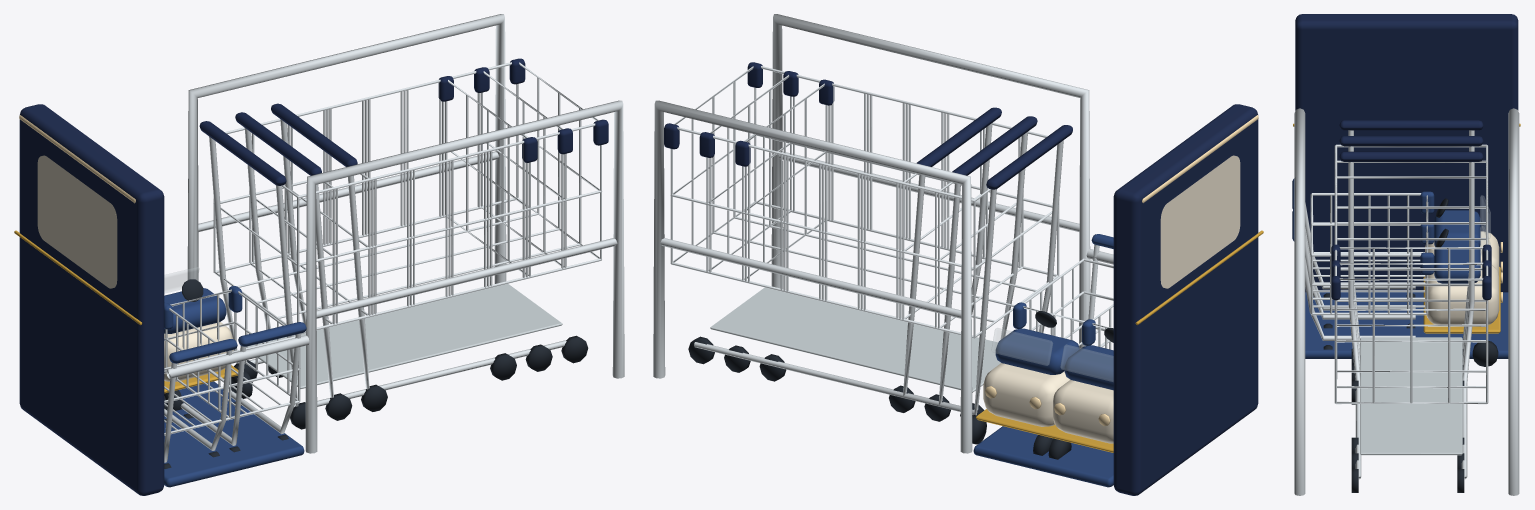
Rendered from carts_T3.fbx.
3 views of the same model, side by side, from view 1: azimuth 30°, elevation 25°; view 2: azimuth 150°, elevation 25°; view 3: azimuth 270°, elevation 25° (orthographic). The views are drawn at different scales.
Visible parts, largest first — view 1: Body; view 2: Body; view 3: Body.
Part boxes in pixels (left/top/right/bottom): Body: left=14, top=14, right=624, bottom=495; Body: left=653, top=14, right=1263, bottom=495; Body: left=1292, top=14, right=1520, bottom=495.
Bounding box in the file's own units: 2.21 × 1.3 × 0.983.
